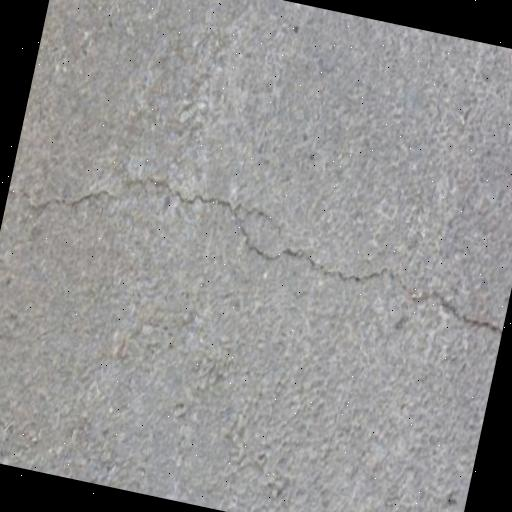spalling: (24, 167, 501, 348)
